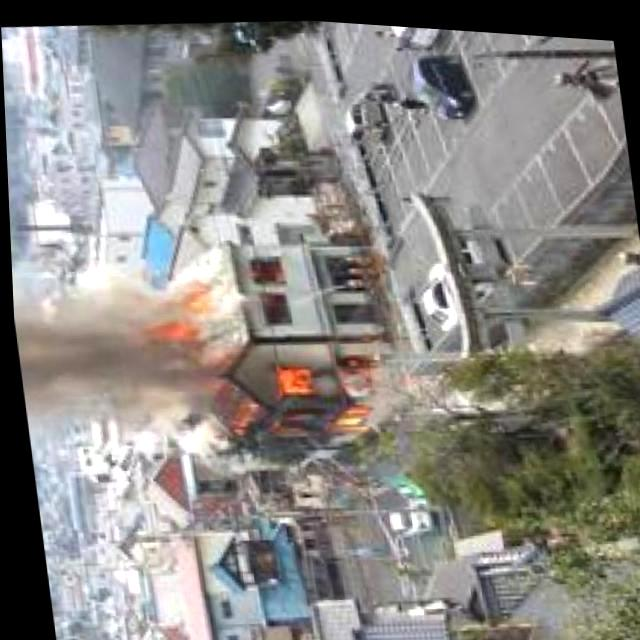fire: (222, 349, 382, 443)
